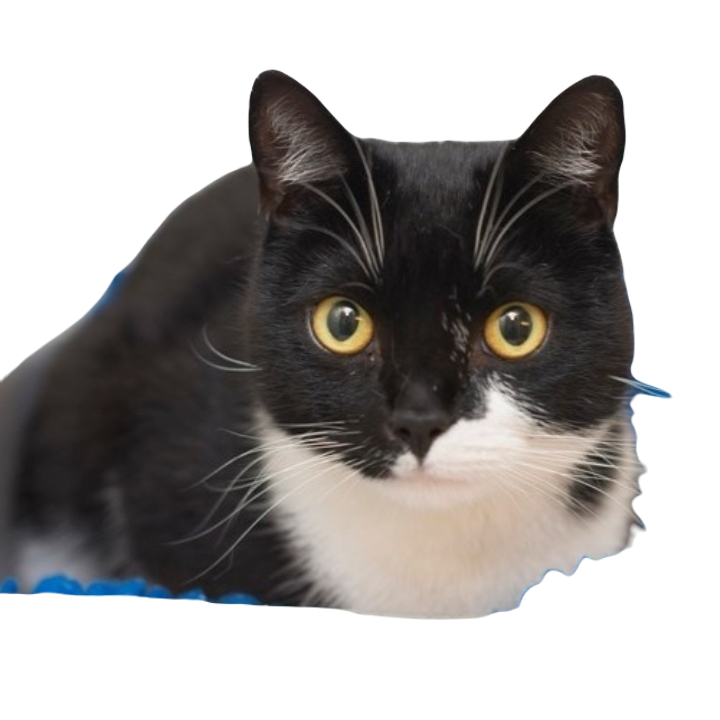Cat: (0, 61, 699, 624)
